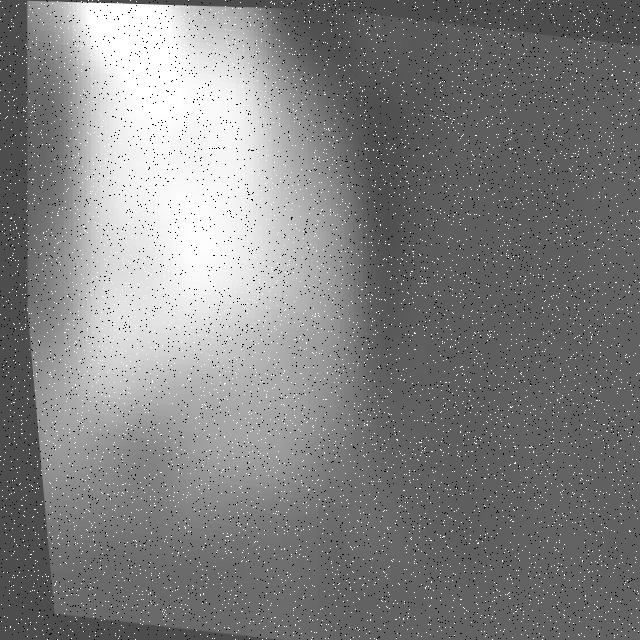person: (1, 1, 398, 522)
